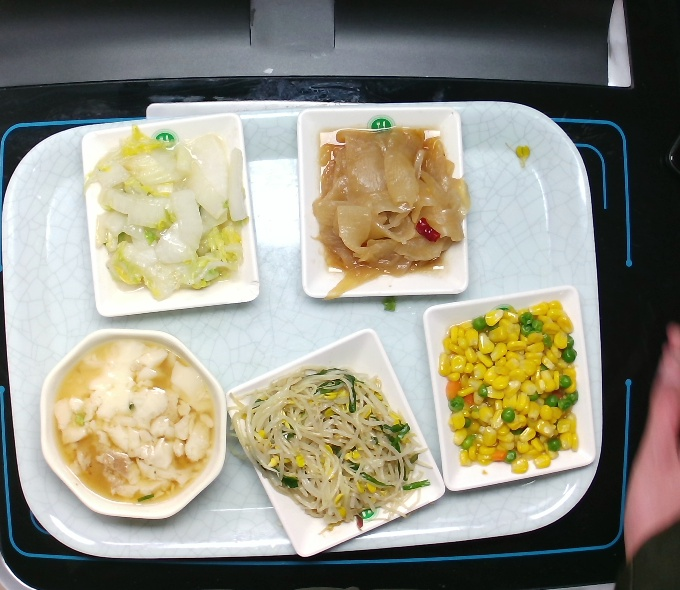wcq-DaBaiCai: (82, 119, 253, 305)
wcq-DongGua: (306, 121, 476, 303)
wcq-DouYa: (219, 359, 440, 541)
wcq-ShuiZhengDan: (44, 331, 223, 514)
wcq-TianMiTianDou: (435, 295, 585, 479)
